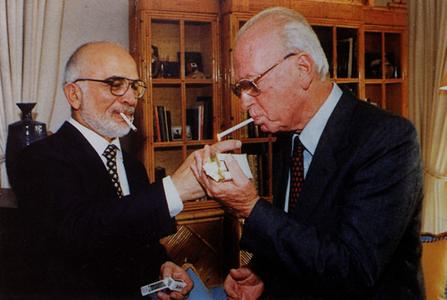person: (14, 41, 246, 300)
